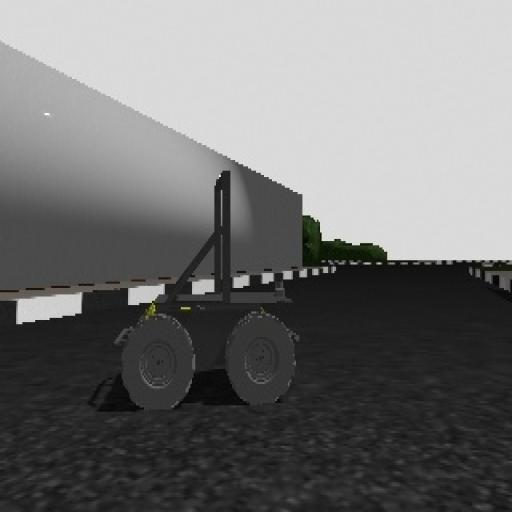huskya200: (80, 155, 346, 441)
